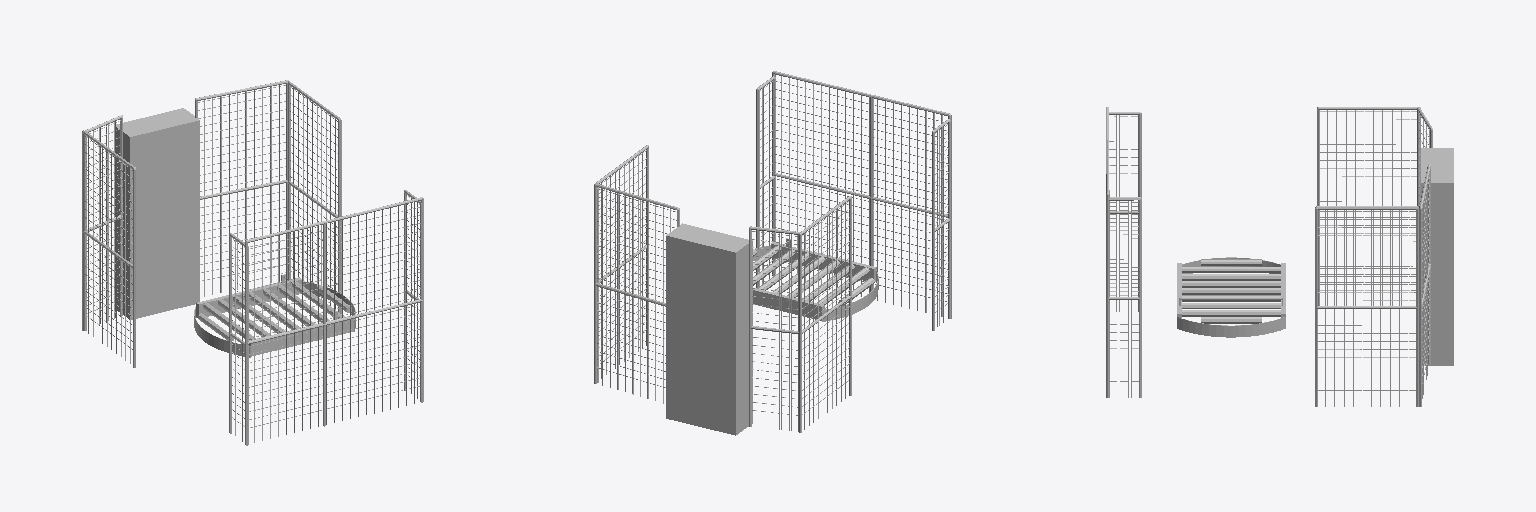
The model's file is 提升机.obj.
The picture shows the model from 3 angles: view 1: azimuth 30°, elevation 25°; view 2: azimuth 150°, elevation 25°; view 3: azimuth 270°, elevation 25°; orthographic projection.
Parts seen in each view (by area): view 1: Mesh, Box2, TTR2, GF6, GF7, GF8, GF3, GF1, GF4, GF5; view 2: Box2, Mesh, TTR2, GF6, GF8, GF5, GF1, GF3, GF4, GF7; view 3: Mesh, TTR2, Box2, GF7, GF1, GF5, GF6, GF8, GF4.
Boxes of the visible parts, box(x1,y1,x2,y2) form: Mesh: box(85, 85, 420, 442); Box2: box(116, 108, 199, 319); TTR2: box(194, 278, 355, 357); GF6: box(245, 197, 423, 445); GF7: box(288, 81, 341, 313); GF8: box(82, 130, 135, 367); GF3: box(84, 115, 122, 330); GF1: box(195, 80, 288, 278); GF4: box(229, 233, 248, 444); GF5: box(404, 190, 421, 402); Box2: box(666, 223, 752, 435); Mesh: box(597, 76, 948, 430); TTR2: box(753, 242, 878, 321); GF6: box(772, 71, 951, 318); GF8: box(799, 196, 851, 432); GF5: box(756, 76, 775, 287); GF1: box(594, 183, 679, 383); GF3: box(749, 226, 799, 431); GF4: box(932, 119, 950, 330); GF7: box(596, 145, 648, 382); Mesh: box(1109, 110, 1429, 406); TTR2: box(1177, 257, 1285, 337); Box2: box(1421, 148, 1453, 365); GF7: box(1315, 206, 1418, 406); GF1: box(1419, 164, 1430, 406); GF5: box(1109, 197, 1141, 397); GF6: box(1106, 107, 1109, 397); GF8: box(1317, 107, 1420, 305); GF4: box(1109, 112, 1141, 311).
Size of the model in its own units: 2.67 by 2.52 by 3.89.